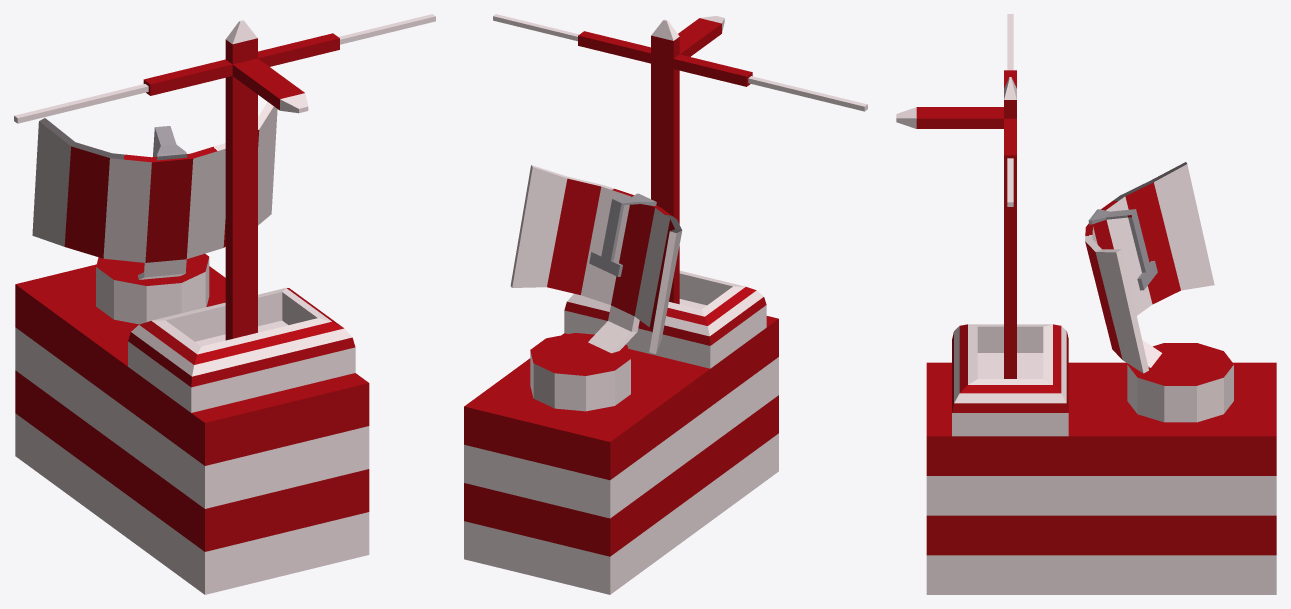
The model's file is radar.fbx.
The picture shows the model from 3 angles, left to right: view 1: azimuth 30°, elevation 25°; view 2: azimuth 150°, elevation 25°; view 3: azimuth 270°, elevation 25°; orthographic projection. The views are drawn at different scales.
Visible parts, largest first — view 1: Cube, dish; view 2: Cube, dish; view 3: Cube, dish.
Part boxes in pixels (x1=…): Cube: x1=14, y1=14, x2=435, y2=594; dish: x1=32, y1=102, x2=277, y2=324; Cube: x1=464, y1=14, x2=867, y2=594; dish: x1=510, y1=165, x2=682, y2=411; Cube: x1=896, y1=14, x2=1276, y2=594; dish: x1=1085, y1=162, x2=1233, y2=422.
Bounding box in the file's own units: 509 × 606 × 435.
